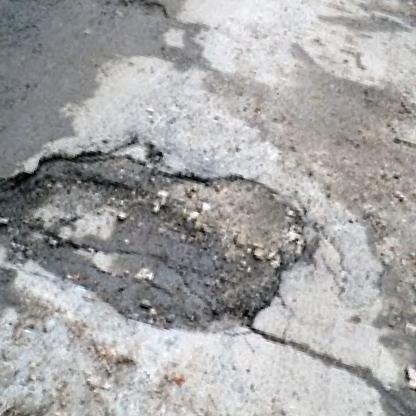pothole: (0, 101, 321, 360), (124, 0, 168, 19)
